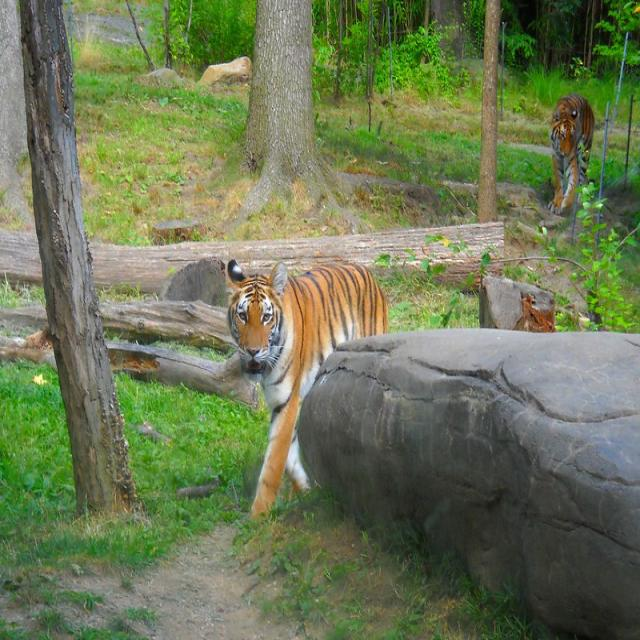Tiger: (219, 252, 389, 522), (546, 89, 597, 225)
